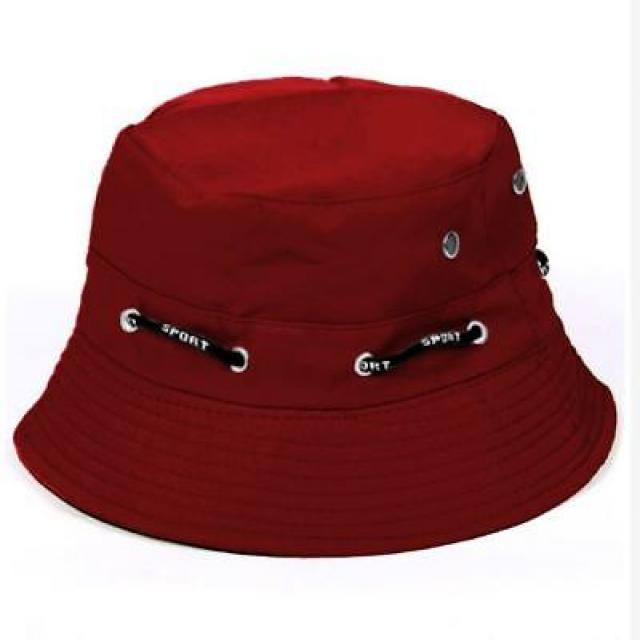mask: (36, 75, 615, 549)
